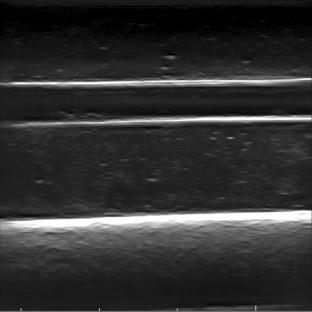vessel: (1, 76, 308, 128)
